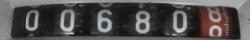digits: (205, 5, 224, 38), (134, 10, 151, 32), (96, 9, 112, 32), (60, 8, 75, 31), (172, 9, 187, 32), (24, 9, 40, 30)
